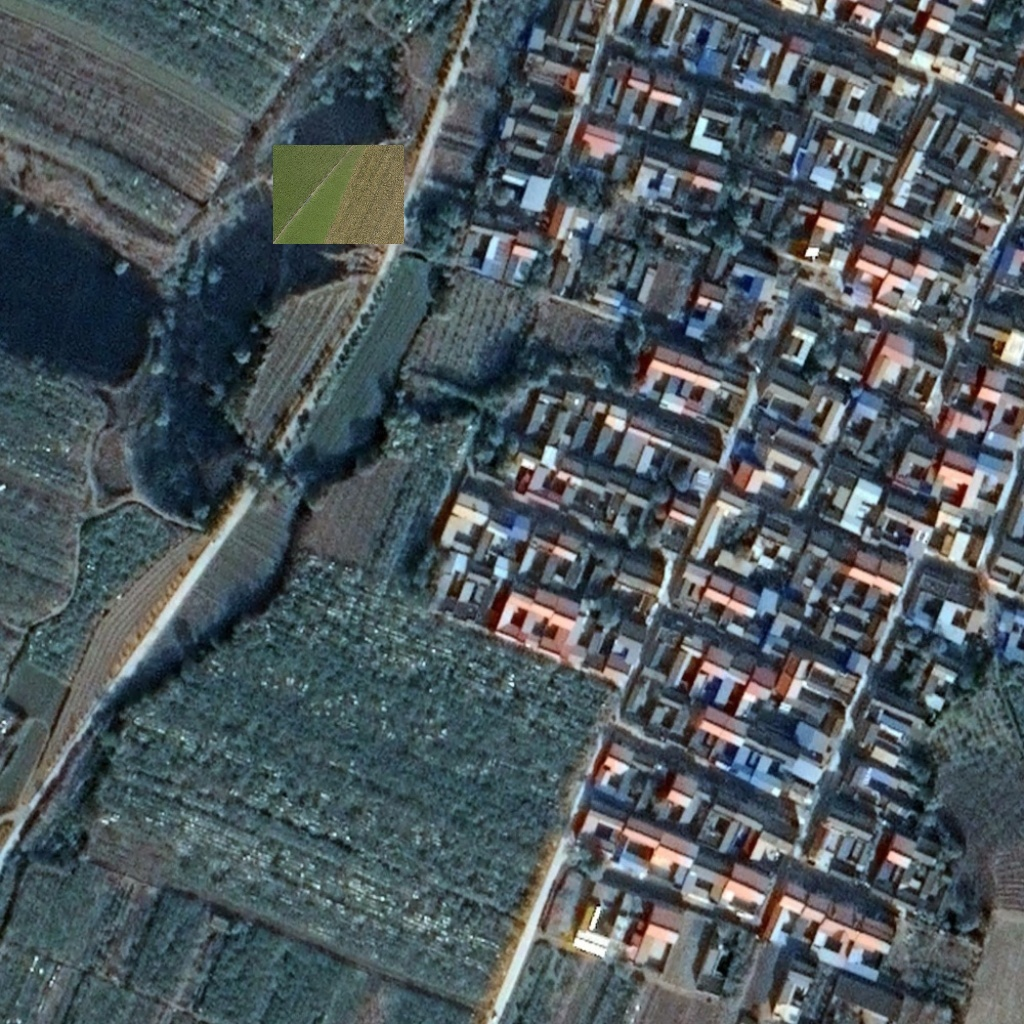agriculture forestry: (273, 145, 404, 244)
